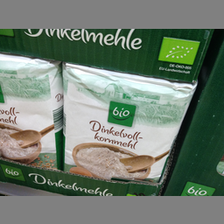flour: (61, 64, 196, 185), (1, 52, 63, 170)
